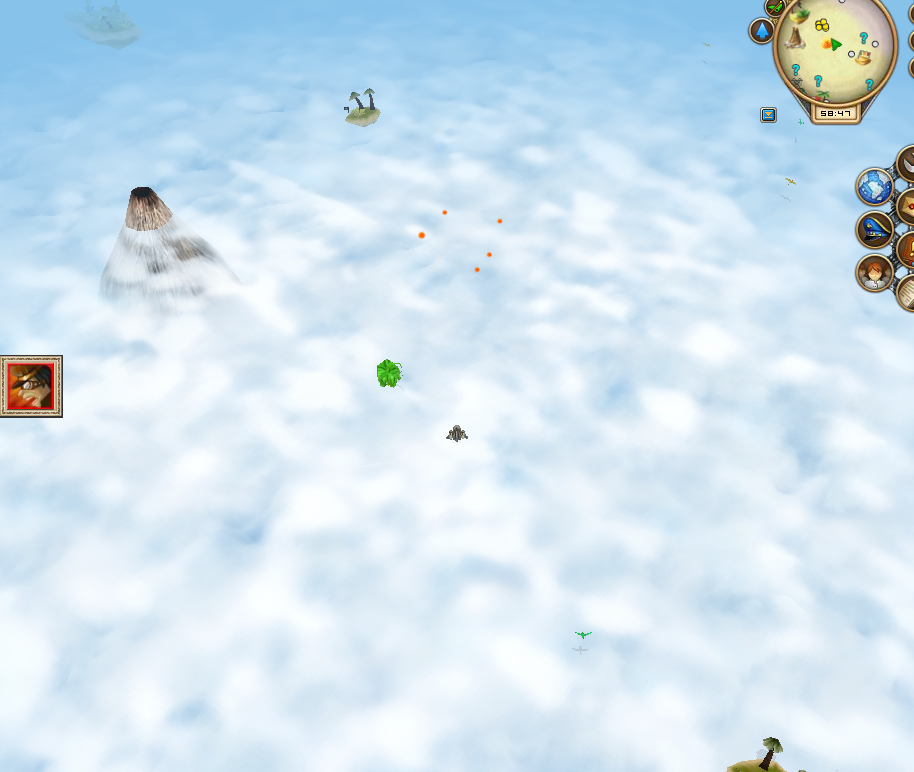dandelion-empty: (371, 353, 407, 391)
fluff: (415, 231, 428, 241), (495, 217, 504, 226), (439, 208, 448, 216), (473, 265, 481, 274), (486, 250, 493, 260)
